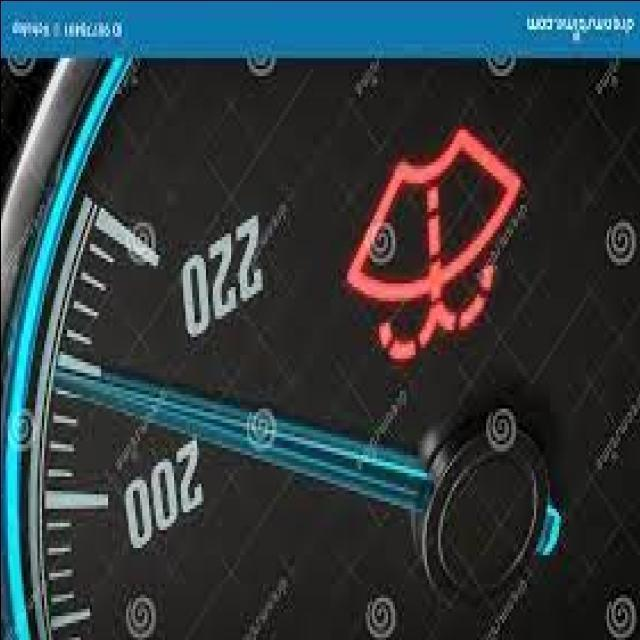Washer Fluid: (342, 128, 522, 362)
